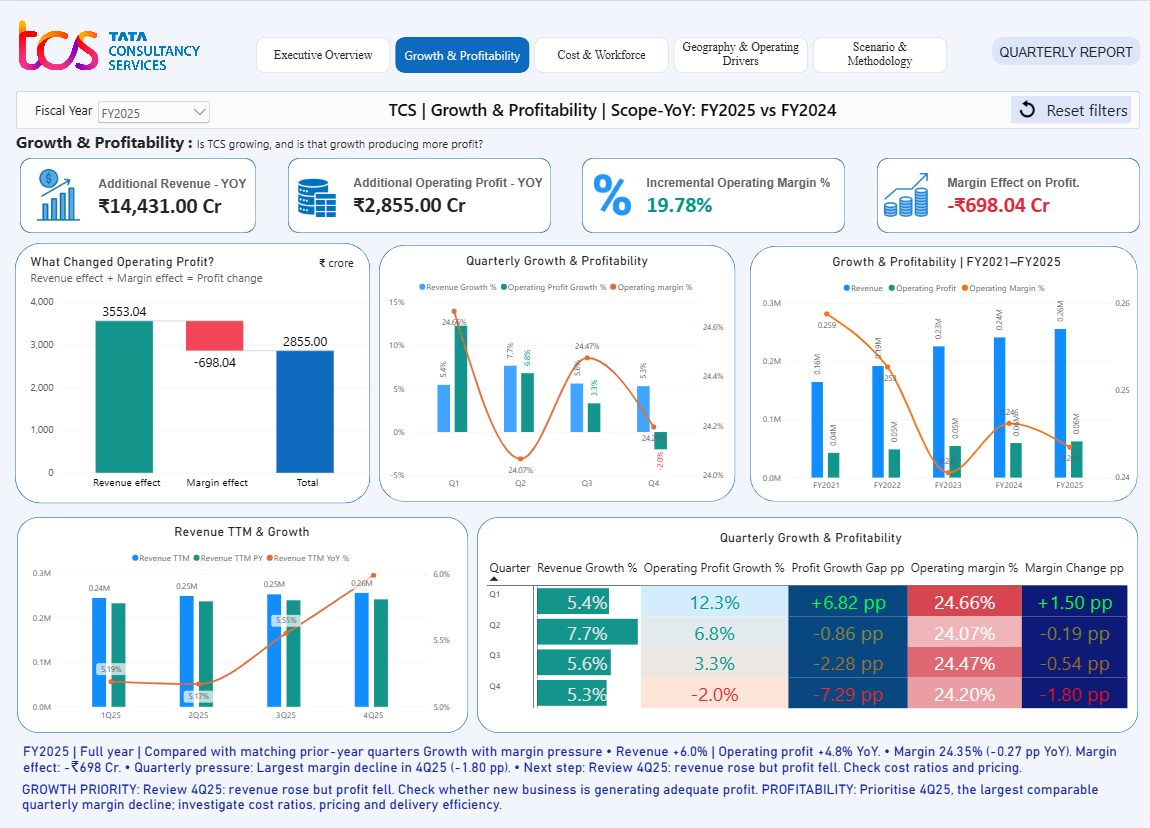

The dashboard page shown, as its layout file describes it:
{"tool":"powerbi","page":{"name":"Growth & Profitability","canvas":[1920,1380],"ordinal":1},"visuals":[{"type":"textbox","box":[1687.1,158.2,199.6,45.7],"z":0,"group":"g2"},{"type":"group","id":"g1","title":"Group 2","box":[35,260.8,1866.7,125],"z":0},{"type":"shape","box":[35,260.8,393.3,125],"z":0,"group":"g1"},{"type":"image","box":[1694.1,165.6,40.9,29.1],"z":1000,"group":"g2"},{"type":"shape","box":[481.1,260.8,438.3,125],"z":1000,"group":"g1"},{"type":"shape","box":[30,860,752,360],"z":1000},{"type":"shape","box":[972.2,260.8,438.3,125],"z":2000,"group":"g1"},{"type":"shape","box":[796,860,1102,360],"z":2000},{"type":"shape","box":[1463.3,260.8,438.3,125],"z":3000,"group":"g1"},{"type":"shape","box":[634,406,594,428],"z":3000},{"type":"shape","box":[1252,408,646,426],"z":4000},{"type":"shape","box":[26,404,592,434],"z":5000},{"type":"shape","box":[29.1,149.5,1873.3,63.3],"z":6000},{"type":"image","box":[20,0,328.3,148.3],"z":7000},{"type":"pageNavigator","box":[429.1,60.7,1154.6,60.3],"z":8000},{"type":"textbox","box":[49.1,167.3,124.5,34.5],"z":9000},{"type":"actionButton","box":[1687.4,157.7,199.1,46.1],"z":10000},{"type":"group","id":"g2","title":"Group 1","box":[1687.1,158.2,199.6,45.7],"z":11000},{"type":"textbox","box":[28.3,216.7,320,83.3],"z":12000},{"type":"cardVisual","fields":{"Data":["_m1.Overview Title growth"]},"box":[632.9,148.6,928.6,64.3],"z":13000},{"type":"shape","box":[1654.4,60.6,247.8,46.7],"z":14000},{"type":"textbox","box":[1638.3,75,280,31.7],"z":15000},{"type":"cardVisual","fields":{"Data":["_m1.Revenue Change YoY"]},"box":[149.2,265.8,280,125],"z":16000},{"type":"slicer","fields":{"Values":["DimQuarter.FiscalYear"]},"box":[160,160.9,195.7,55.7],"z":17000},{"type":"cardVisual","fields":{"Data":["_m1.Operating Profit Change YoY"]},"box":[575,252.5,370,150],"z":18000},{"type":"cardVisual","fields":{"Data":["_m1.Incremental Operating Margin %"]},"box":[1062.5,253.3,378.3,150],"z":19000},{"type":"image","box":[49.2,280,98.6,85.7],"z":20000},{"type":"image","box":[485,290.8,90,72.9],"z":21000},{"type":"image","box":[972.5,280,98.6,85.7],"z":22000},{"type":"image","box":[1470,286.7,82.9,72.9],"z":23000},{"type":"cardVisual","fields":{"Data":["_m1.Profit_Change - Margin Effect"]},"box":[1564.2,253.3,349.2,150],"z":24000},{"type":"waterfallChart","title":"What Changed Operating Profit?","fields":{"Category":["ProfitBridge.driver"],"Y":["ProfitBridge.Profit Bridge Value"]},"box":[36,408,606,426],"z":25000},{"type":"textbox","box":[533.7,404.2,82.1,52.5],"z":26000},{"type":"lineClusteredColumnComboChart","fields":{"Category":["TrendYear.FiscalYear"],"Y":["_m1.Revenue - Selected FY Last 5","_m1.Operating Profit - Selected FY Last 5"],"Y2":["_m1.Operating Margin % - Selected FY Last 5"]},"box":[1256,408,646,430],"z":27000},{"type":"lineClusteredColumnComboChart","title":"Quarterly Growth & Profitability","fields":{"Y":["_m1.Quarterly Revenue Growth %","_m1.Quarterly Operating Profit Growth %"],"Y2":["_m.Operating margin %"],"Category":["DimQuarter.FiscalQuarter"]},"box":[634,406,594,428],"z":28000},{"type":"pivotTable","fields":{"Values":["_m1.Quarterly Revenue Growth %","_m1.Quarterly Operating Profit Growth %","_m1.Profit Growth Gap pp","_m.Operating margin %","_m1.Quarterly Margin Change pp"],"Rows":["DimQuarter.FiscalQuarter"]},"box":[796,912,1118,308],"z":29000},{"type":"textbox","box":[1202,882,320.7,29.3],"z":30000},{"type":"lineClusteredColumnComboChart","title":"Revenue TTM & Growth","fields":{"Category":["DimQuarter.PERIOD"],"Y":["_m.Revenue TTM","_m1.Revenue TTM PY"],"Y2":["_m1.Revenue TTM YoY %"]},"box":[40,858,730,362],"z":31000},{"type":"textbox","box":[314.3,217.1,941.4,48.6],"z":32000},{"type":"textbox","box":[40,1236,1864,98],"z":33000},{"type":"textbox","box":[38,1300,1864,60],"z":34000}]}

Visuals, with their boxes in screenshot pixels (x1, y1, x2, y2), scaled from the page's 1920x1380 canvas onto the 1150x828 screenshot:
textbox: (1011,95,1130,122)
"Group 2" group: (21,156,1139,231)
shape: (21,156,257,231)
image: (1015,99,1039,117)
shape: (288,156,551,231)
shape: (18,516,468,732)
shape: (582,156,845,231)
shape: (477,516,1137,732)
shape: (876,156,1139,231)
shape: (380,244,736,500)
shape: (750,245,1137,500)
shape: (16,242,370,503)
shape: (17,90,1139,128)
image: (12,0,209,89)
pageNavigator: (257,36,949,73)
textbox: (29,100,104,121)
actionButton: (1011,95,1130,122)
"Group 1" group: (1011,95,1130,122)
textbox: (17,130,209,180)
cardVisual - _m1.Overview Title growth: (379,89,935,128)
shape: (991,36,1139,64)
textbox: (981,45,1149,64)
cardVisual - _m1.Revenue Change YoY: (89,159,257,234)
slicer - DimQuarter.FiscalYear: (96,97,213,130)
cardVisual - _m1.Operating Profit Change YoY: (344,152,566,242)
cardVisual - _m1.Incremental Operating Margin %: (636,152,863,242)
image: (29,168,89,219)
image: (290,174,344,218)
image: (582,168,642,219)
image: (880,172,930,216)
cardVisual - _m1.Profit_Change - Margin Effect: (937,152,1146,242)
"What Changed Operating Profit?" waterfallChart: (22,245,385,500)
textbox: (320,243,369,274)
lineClusteredColumnComboChart - TrendYear.FiscalYear x _m1.Revenue - Selected FY Last 5: (752,245,1139,503)
"Quarterly Growth & Profitability" lineClusteredColumnComboChart: (380,244,736,500)
pivotTable - _m1.Quarterly Revenue Growth % x _m1.Quarterly Operating Profit Growth %: (477,547,1146,732)
textbox: (720,529,912,547)
"Revenue TTM & Growth" lineClusteredColumnComboChart: (24,515,461,732)
textbox: (188,130,752,159)
textbox: (24,742,1140,800)
textbox: (23,780,1139,816)
